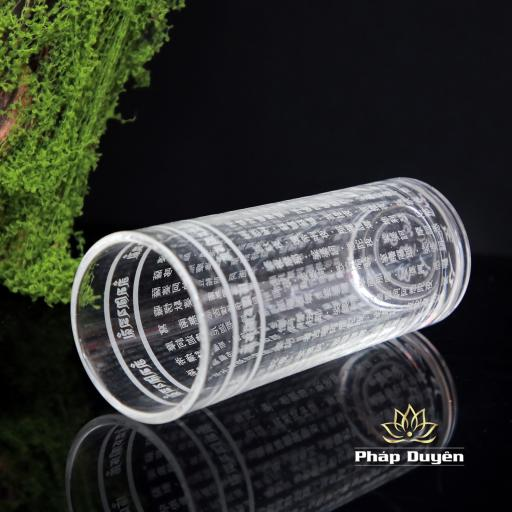bottle: (72, 178, 470, 423), (71, 179, 468, 423)
